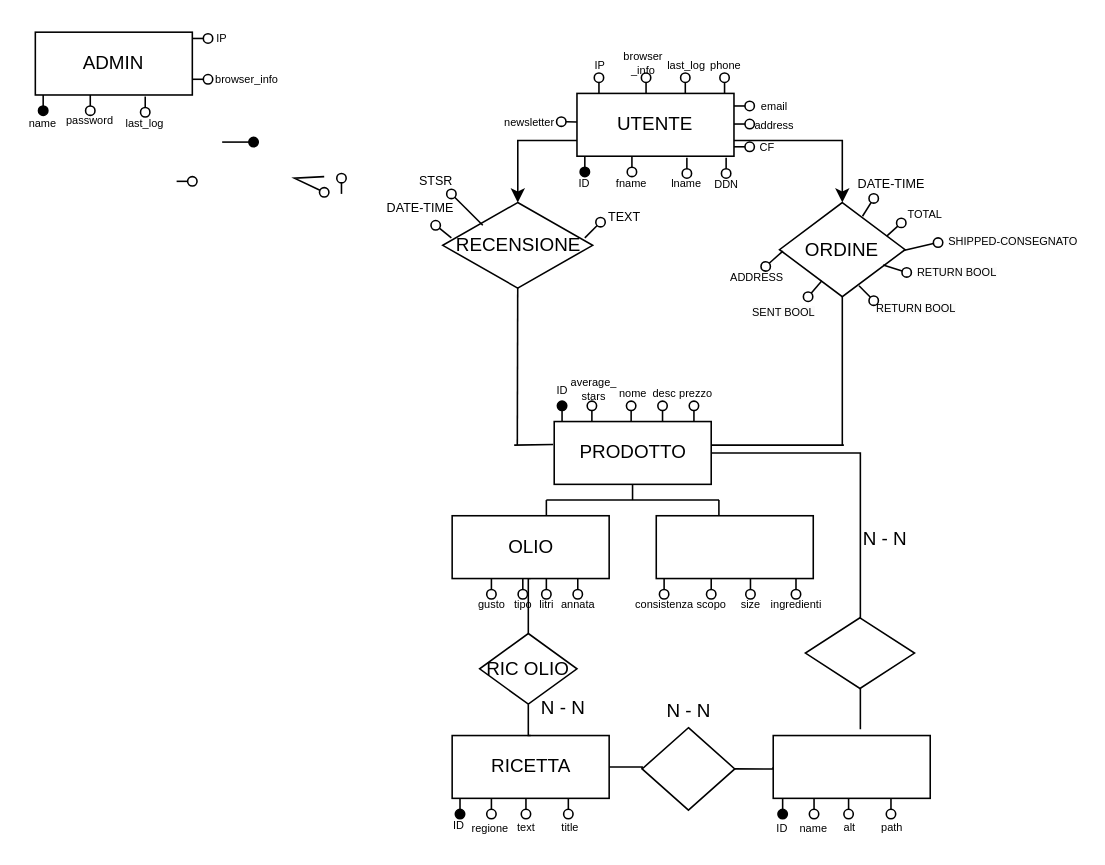
This 1105x865 diagram has some shape labels left out. The shapes that lost their labels are listed below. From the top down, each one's centre as x and y in pixels, then its label:
[734,546]: COSMETICO
[859,652]: PROD IMG
[688,768]: RIC IMG
[851,766]: IMAGES
